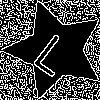L: (30, 25, 82, 78)
